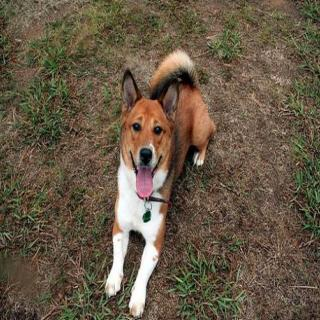dog: (118, 66, 180, 202)
nose: (137, 144, 153, 165)
